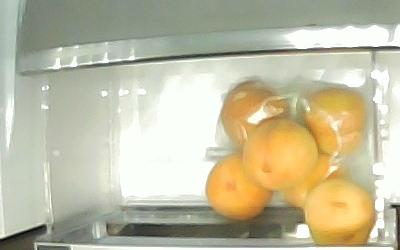peach: (243, 121, 318, 187), (306, 180, 374, 246), (206, 156, 273, 219)
peach_vinyl: (304, 90, 366, 157), (220, 85, 287, 145), (282, 154, 346, 208)
